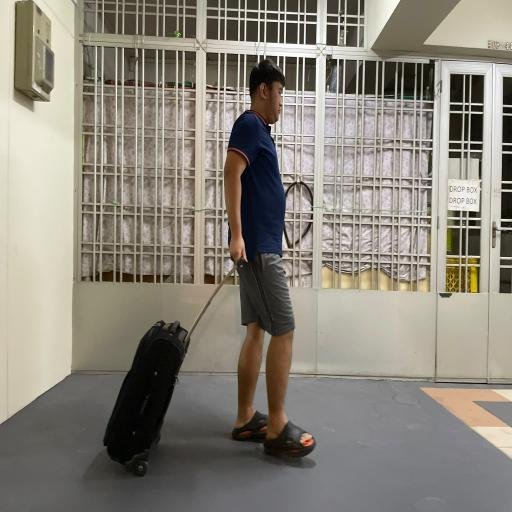person_right: (86, 60, 318, 480)
